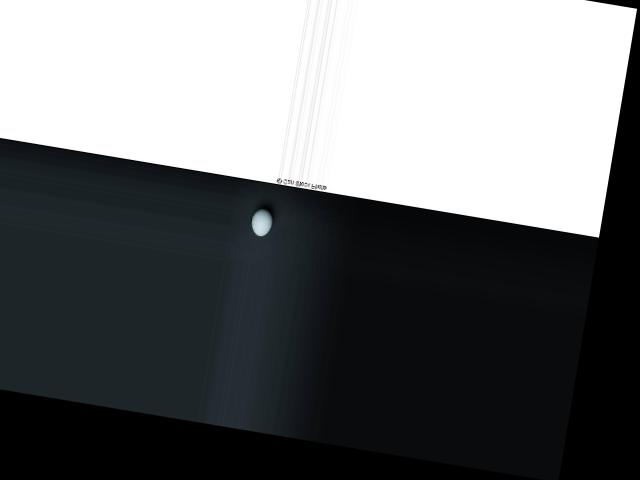egg: (249, 207, 274, 237)
